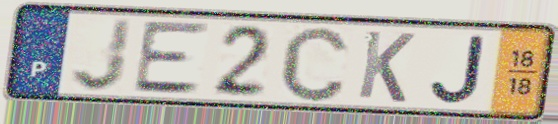2: (209, 22, 275, 98)
C: (276, 23, 352, 105)
E: (130, 21, 214, 97)
J: (68, 16, 136, 94), (428, 34, 488, 107)
K: (354, 28, 418, 106)
